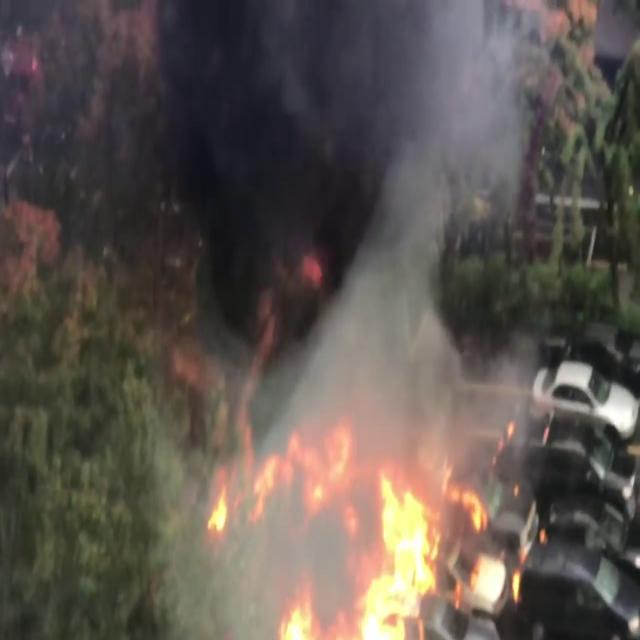Fire: (246, 422, 520, 637)
Smoke: (6, 0, 549, 429)
